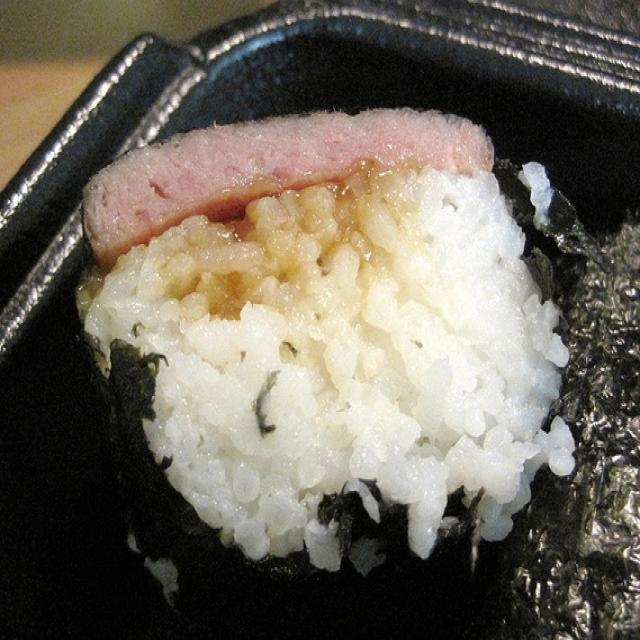寿司卷物: (49, 98, 567, 562)
